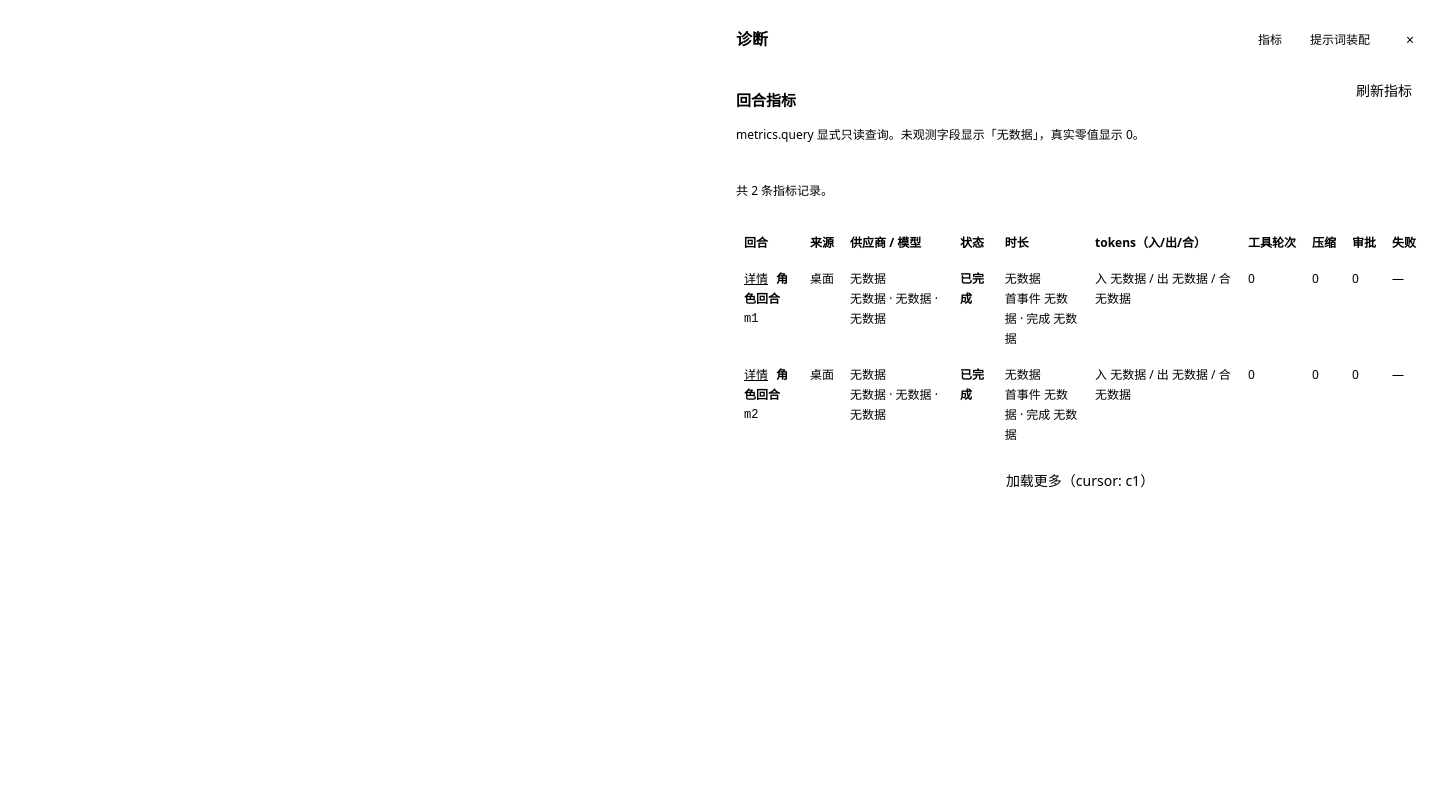
Test: DiagnosticsDrawerHost 指标分页 › 加载更多按游标追加第二页并保留第一页，刷新整体替换
Expected: the message with test id "diag-metrics-count" reads "共 2 条指标记录。", [736,182,833,198]
Expected: the row with test id "diag-metric-m1" is shown, [736,260,1424,356]
Click the button "加载更多（cursor: c1）".
click(1080, 480)  # box [736,464,1424,496]
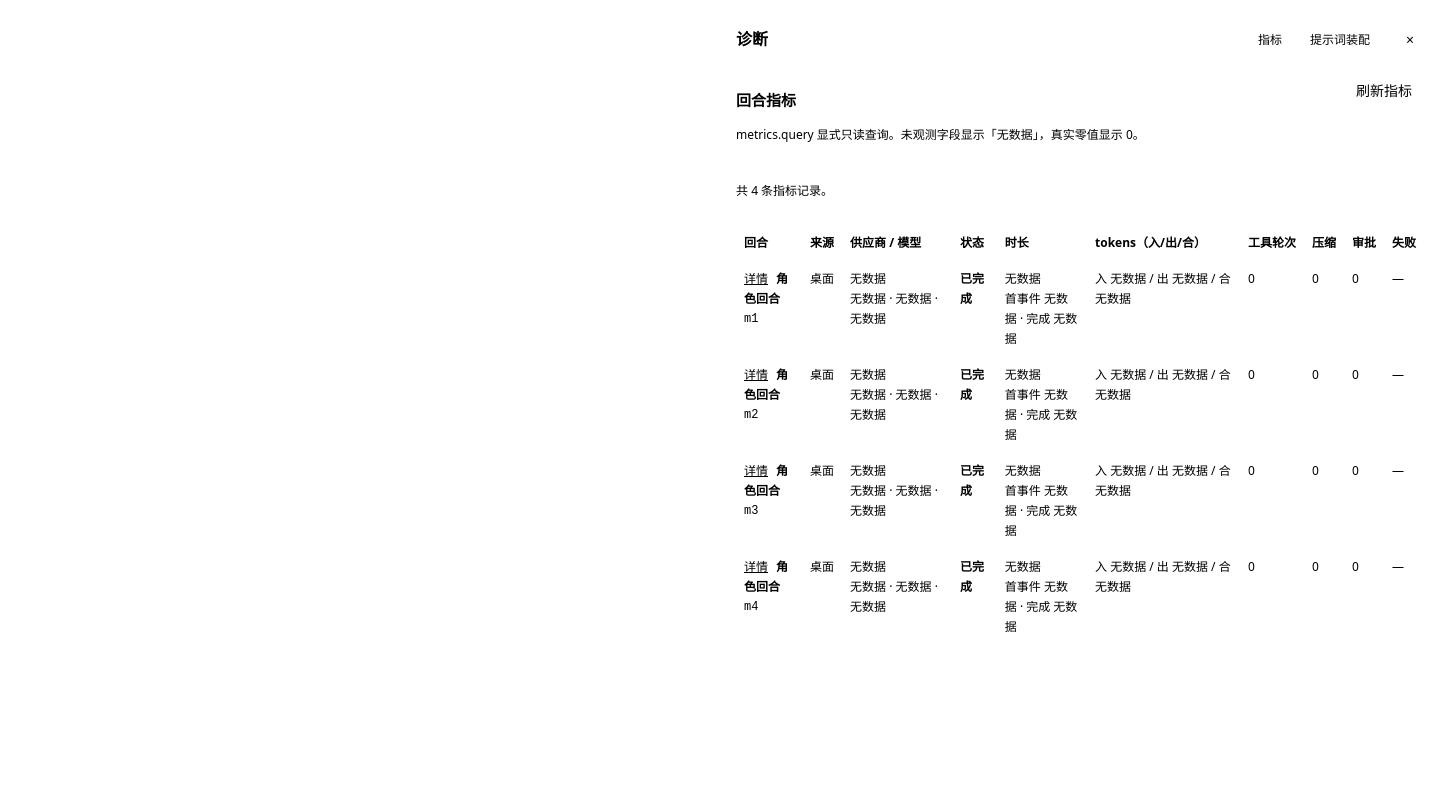
Expected: the row with test id "diag-metric-m1" is shown, [736,260,1424,356]
Expected: the message with test id "diag-metrics-count" reads "共 4 条指标记录。", [736,182,833,198]
Expected: the row with test id "diag-metric-m3" is shown, [736,452,1424,548]
// 刷新（无 cursor）仍是整体替换：回到第一页，第二页行消失。
Click the button "刷新指标".
click(1384, 90)  # box [1344,74,1424,106]
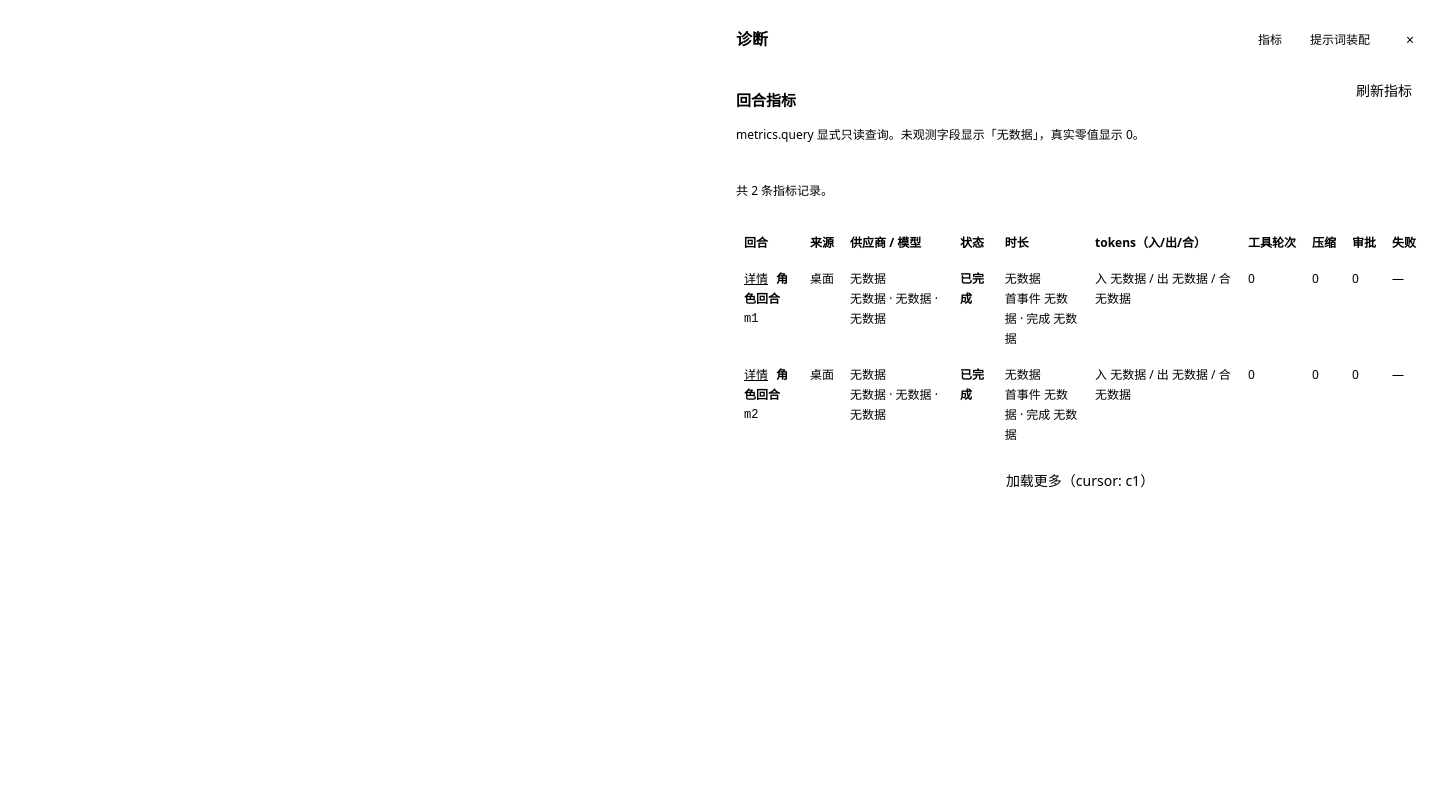
Expected: the message with test id "diag-metrics-count" reads "共 2 条指标记录。", [736,182,833,198]
Expected: the row with test id "diag-metric-m3" is gone
